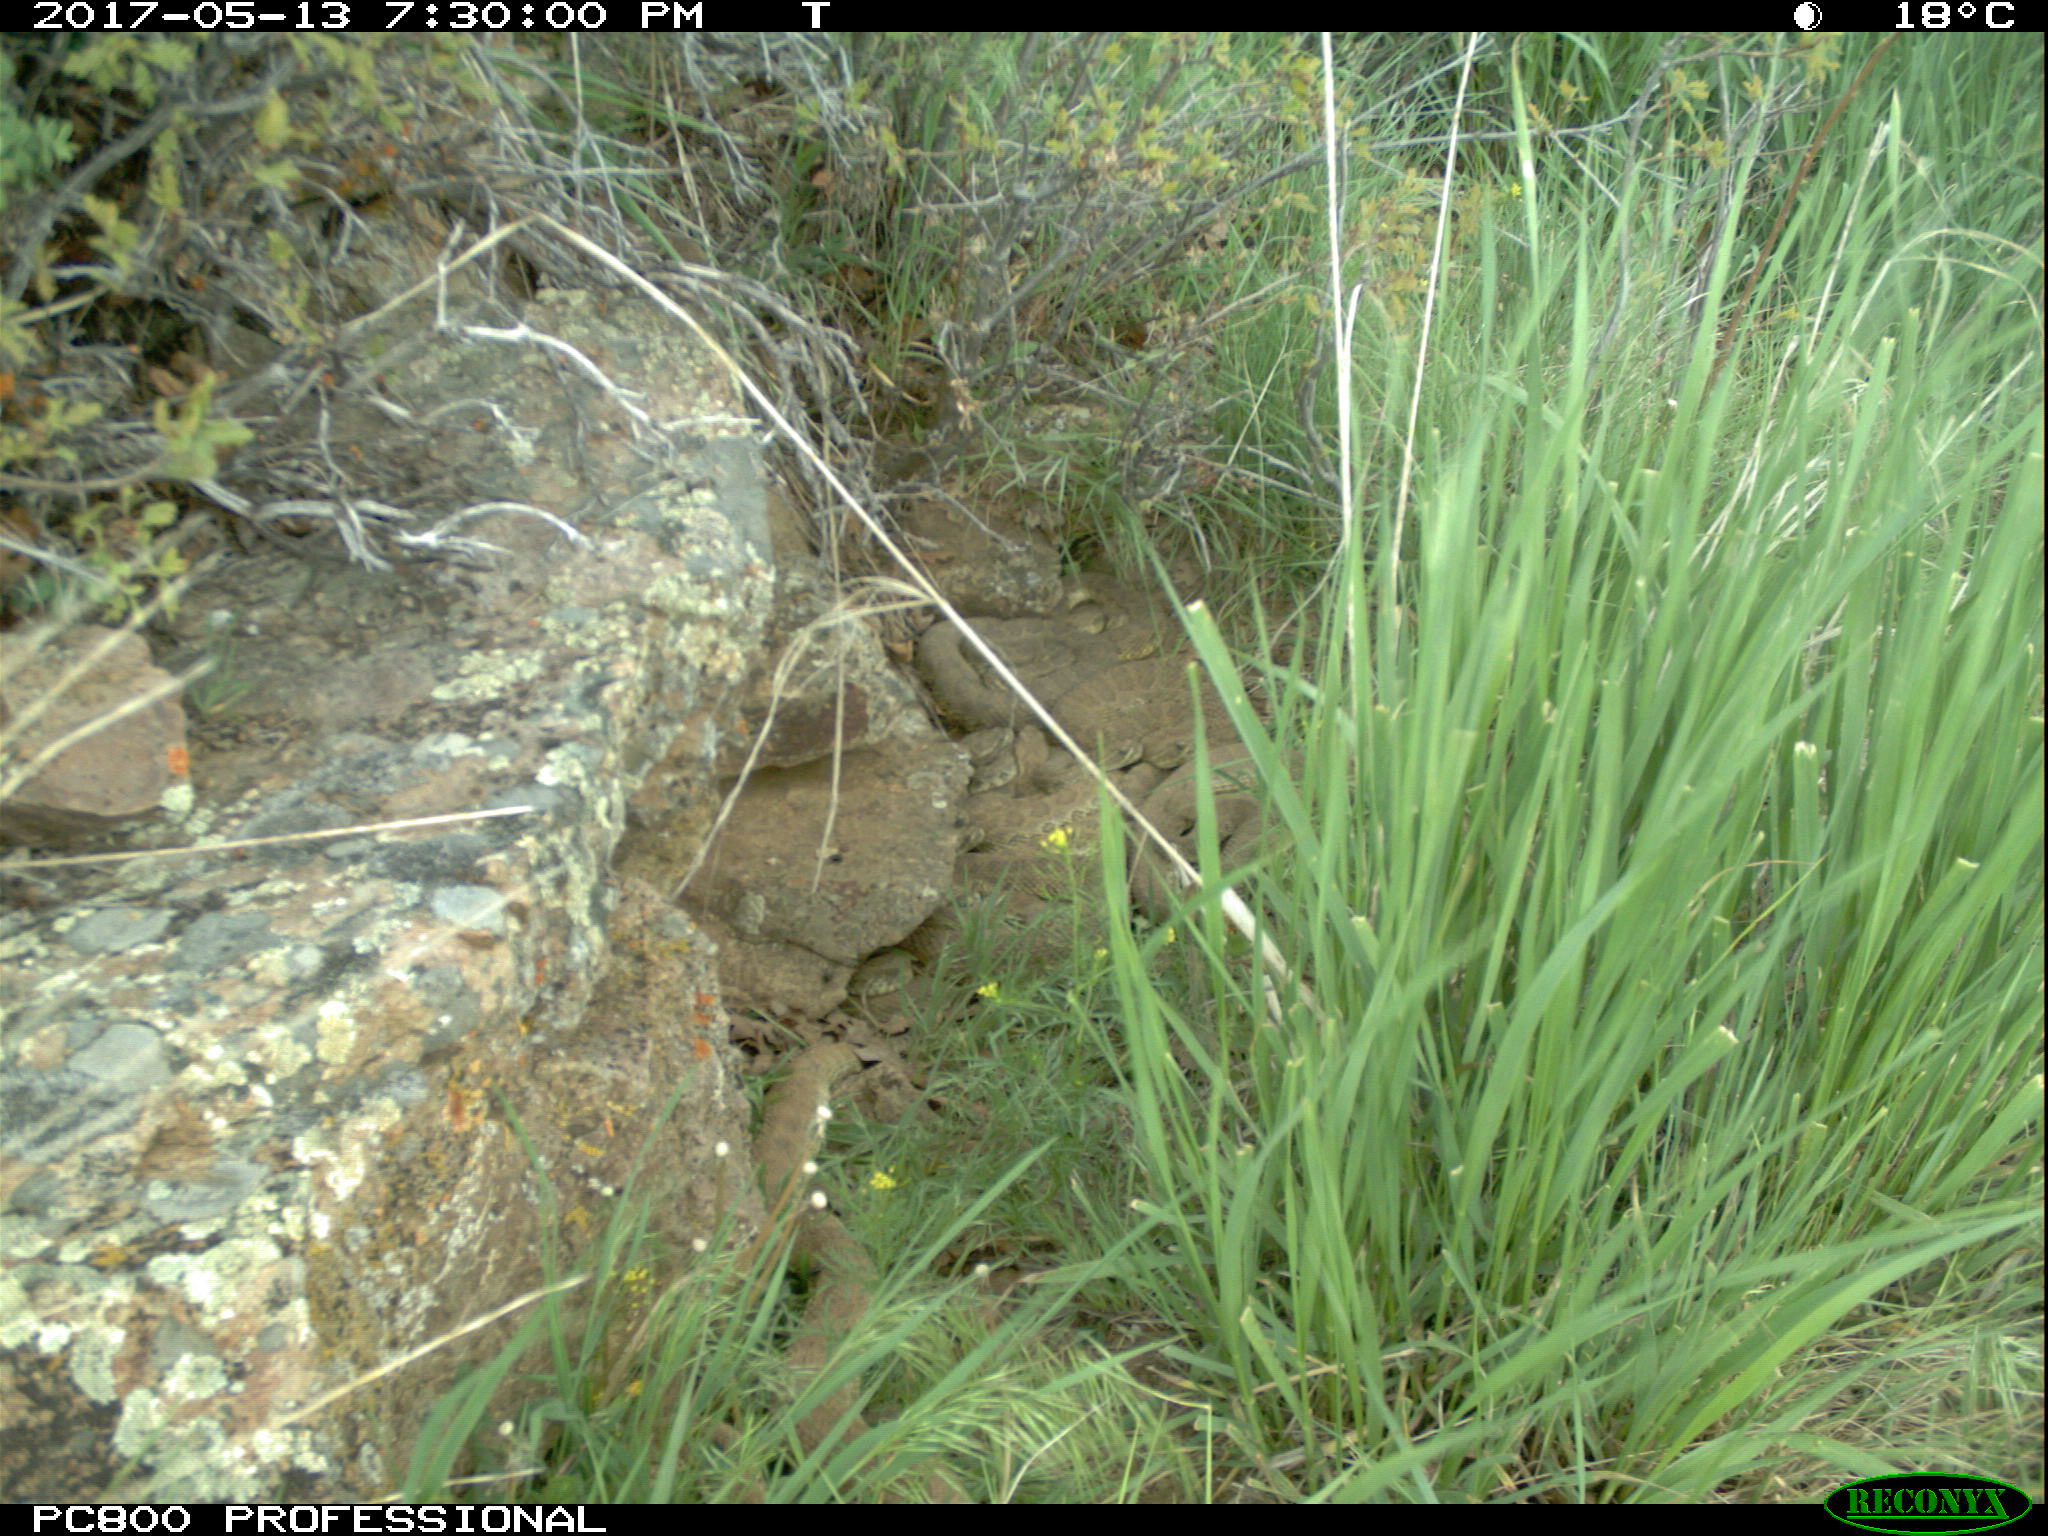snake: (755, 1041, 885, 1478), (914, 608, 1156, 744), (1132, 752, 1292, 912), (964, 726, 1114, 887), (1061, 657, 1238, 757), (942, 883, 1095, 962), (1053, 574, 1176, 658), (847, 945, 935, 1016)
